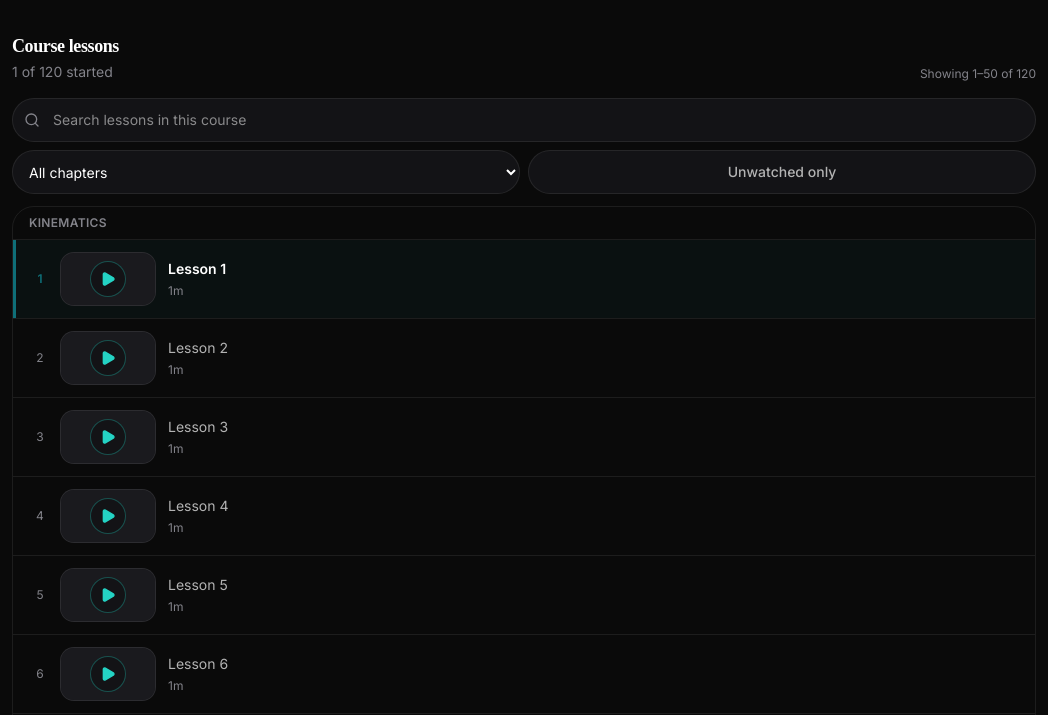
large course lesson sequence › filters by real chapter metadata and watched state
Select "Laws of Motion" in the dropdown named "Filter lessons by chapter" at (266, 172), box [12, 150, 520, 194]
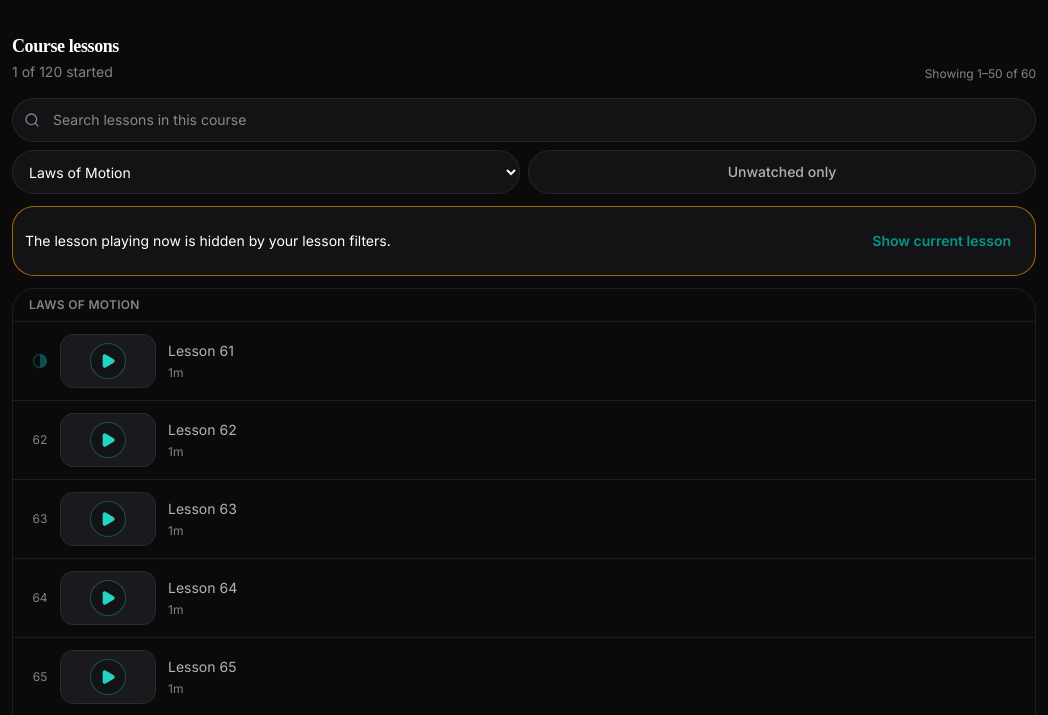
Expected: the text "Lesson 1" is not shown
Now the text "Showing 1–50 of 60" is shown, box [925, 66, 1036, 82]
Now the text "Lesson 61" is shown, box [168, 342, 234, 359]
Click the button "Unwatched only" at (782, 172), box [528, 150, 1036, 194]
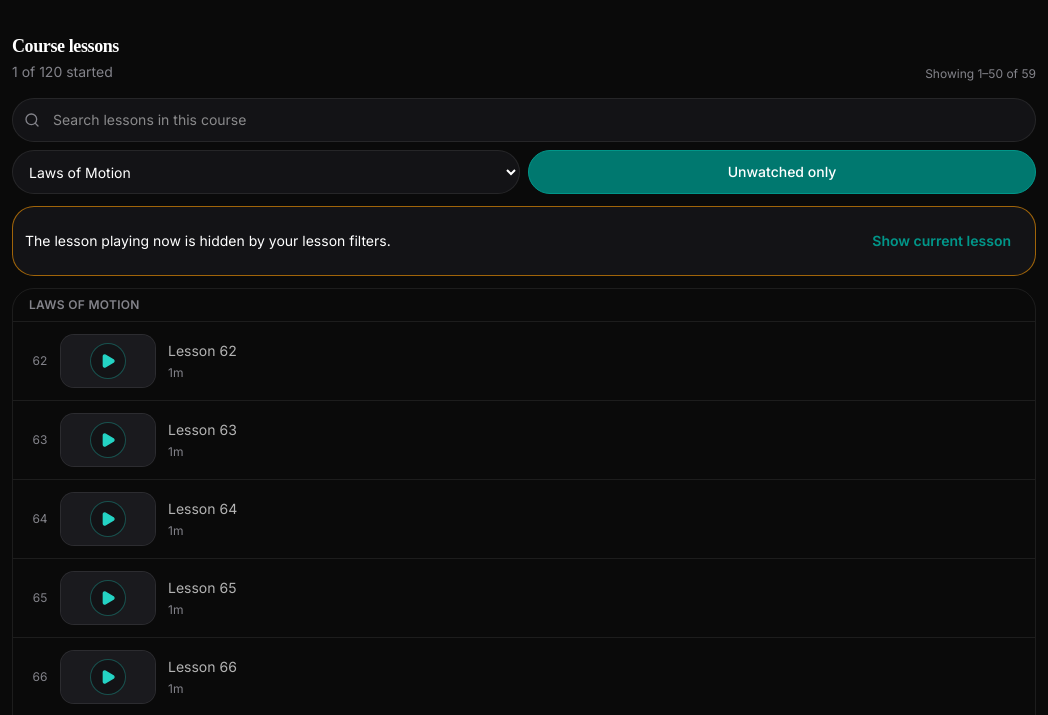
Now the text "Lesson 62" is shown, box [168, 342, 237, 359]
Now the text "Showing 1–50 of 59" is shown, box [925, 66, 1036, 82]
Now the button "Lesson 61" is gone
